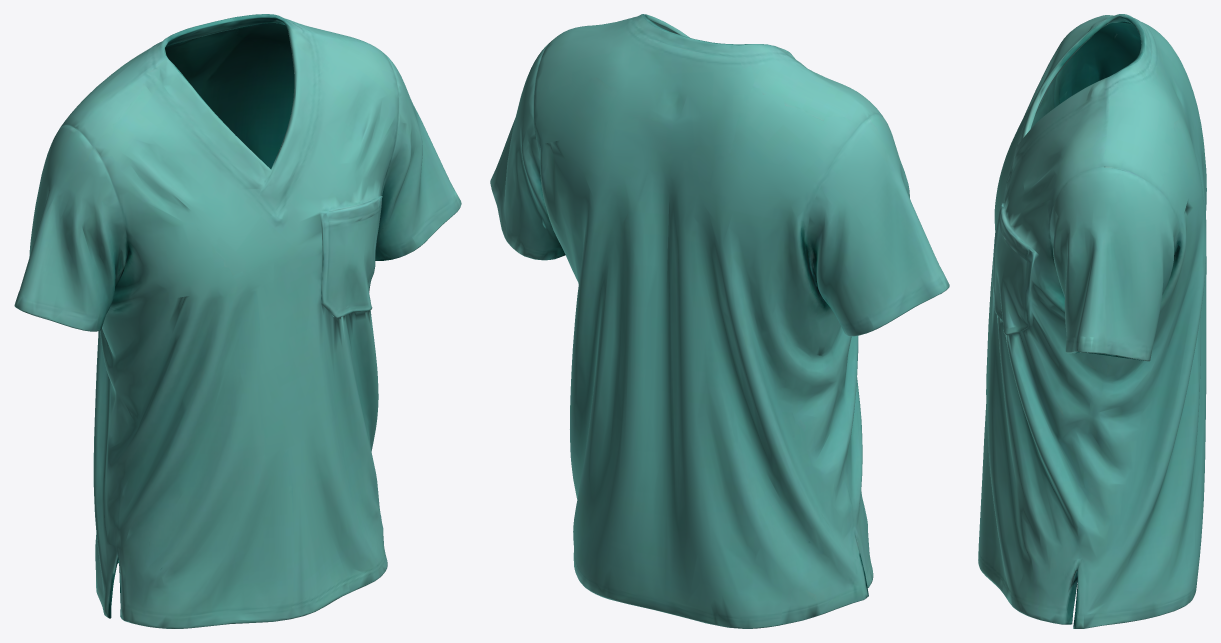
The model's file is pijama-cirurgico.glb.
The picture shows the model from 3 angles, left to right: view 1: azimuth 30°, elevation 25°; view 2: azimuth 150°, elevation 25°; view 3: azimuth 270°, elevation 25°; orthographic projection. The views are drawn at different scales.
Parts seen in each view (by area): view 1: node_0; view 2: node_0; view 3: node_0.
Part boxes in pixels (<box>): node_0: <box>14,14,461,628</box>; node_0: <box>490,14,949,628</box>; node_0: <box>978,14,1206,628</box>.
Size of the model in its own units: 0.9174 by 1.07 by 0.4216.
Materials: 1 (1 with a texture image).
